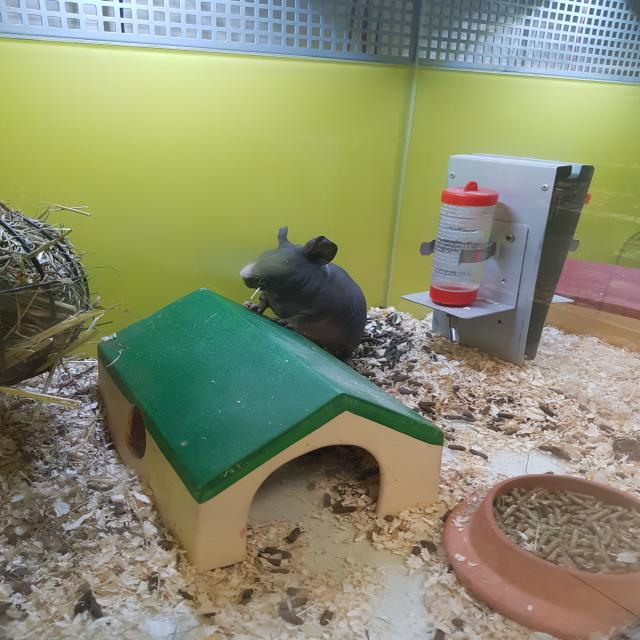guinea pig: (234, 222, 370, 367)
